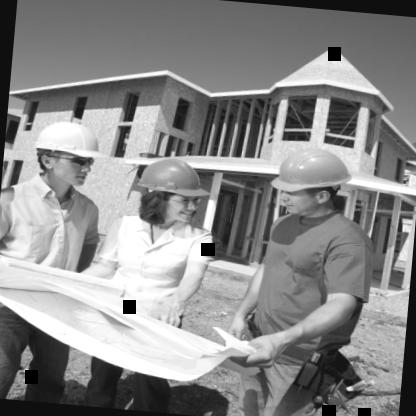helmet: (130, 154, 217, 230), (272, 142, 354, 218), (29, 120, 112, 190)
